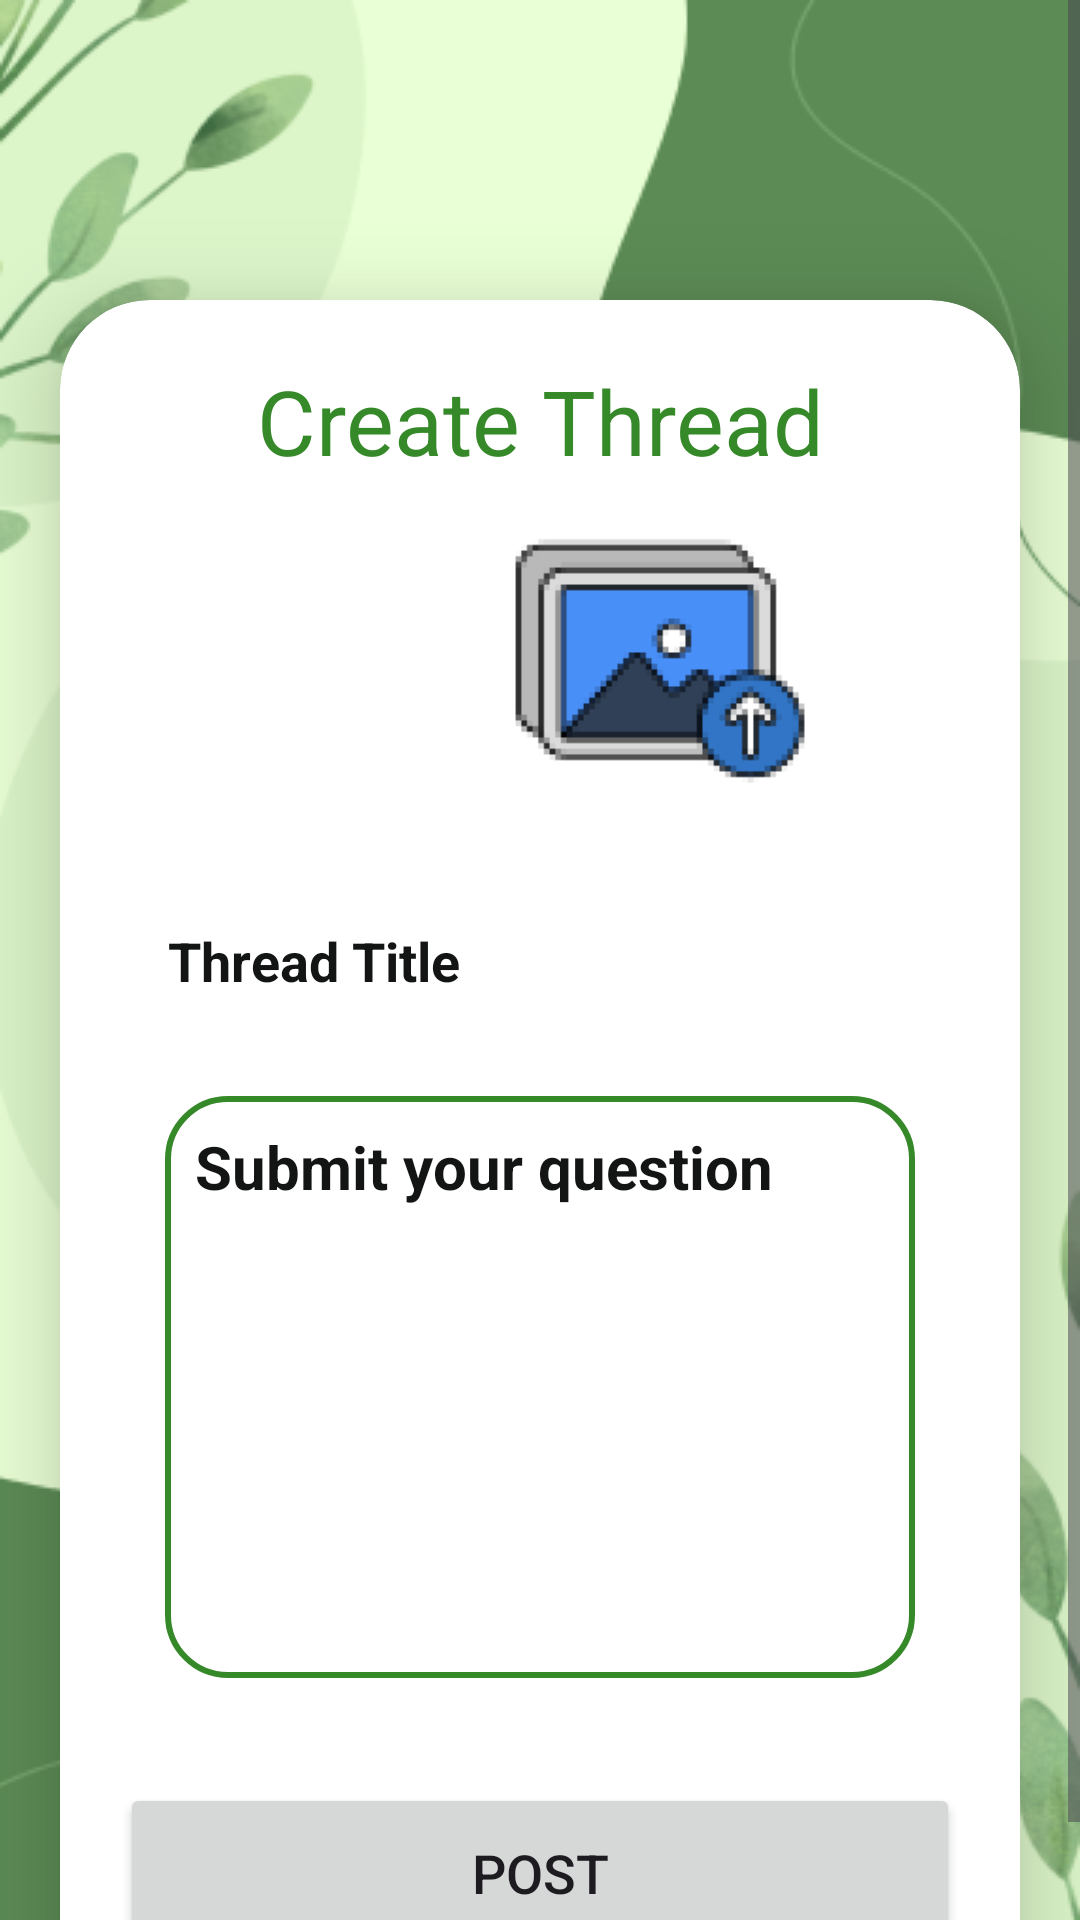

Icon bounding boxes for this 1080px×1920px phone screenshot, format Rect(x1, y1, x2, y2):
uploadphoto: Rect(515, 540, 805, 778)
